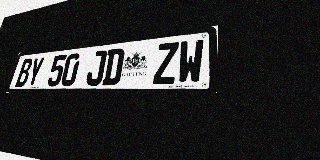0: (60, 53, 81, 86)
5: (46, 54, 67, 86)
B: (15, 58, 34, 87)
D: (102, 48, 125, 85)
J: (85, 50, 107, 86)
W: (177, 39, 204, 84)
Y: (26, 57, 45, 87)
Z: (153, 42, 179, 84)
